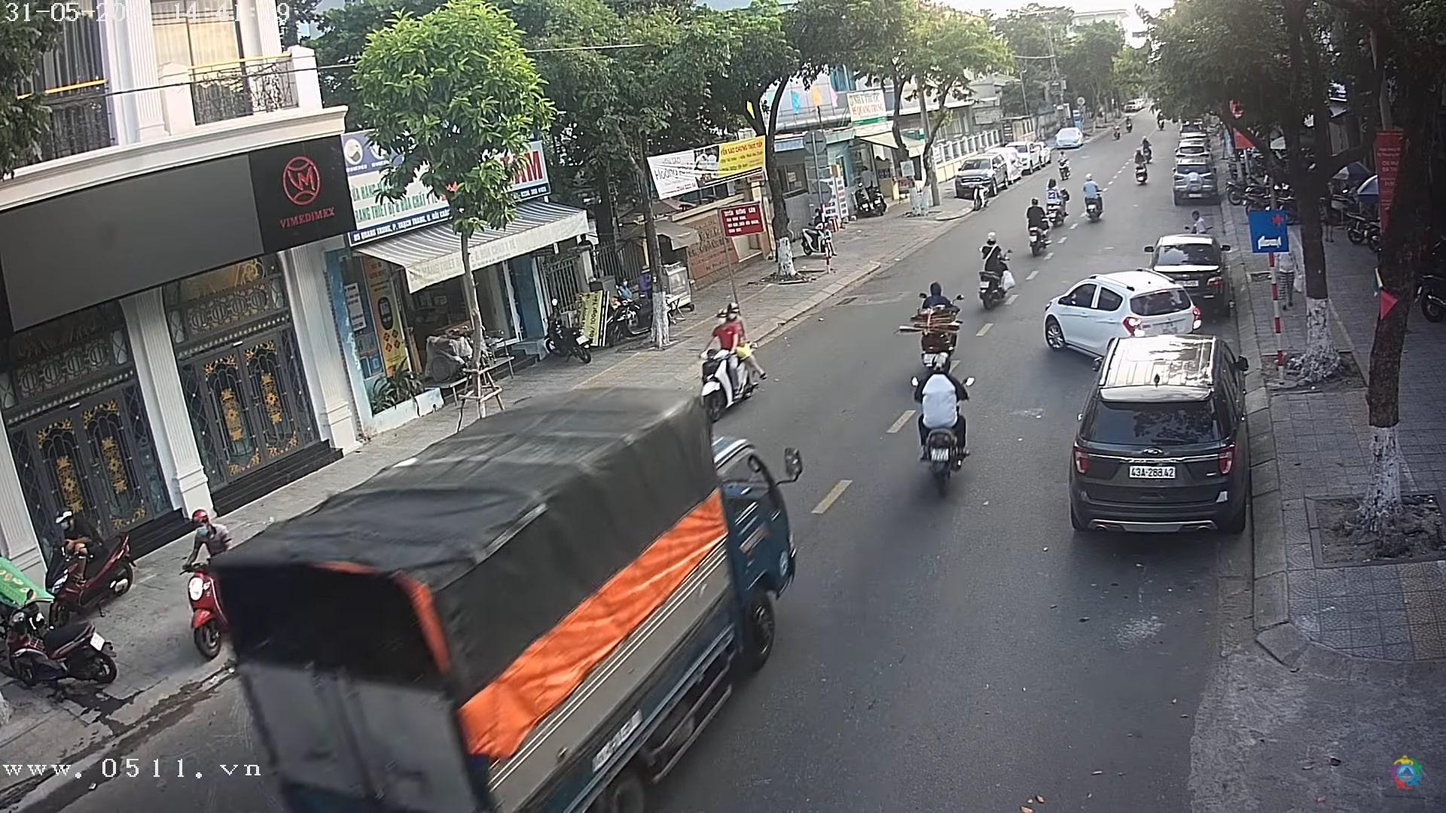car: (1069, 332, 1257, 534), (1042, 268, 1210, 363), (1146, 236, 1232, 305), (1054, 126, 1085, 150)
motorbike: (912, 375, 980, 497), (699, 336, 772, 428), (974, 249, 1014, 309), (1025, 209, 1055, 256)
truck: (203, 376, 801, 812)
